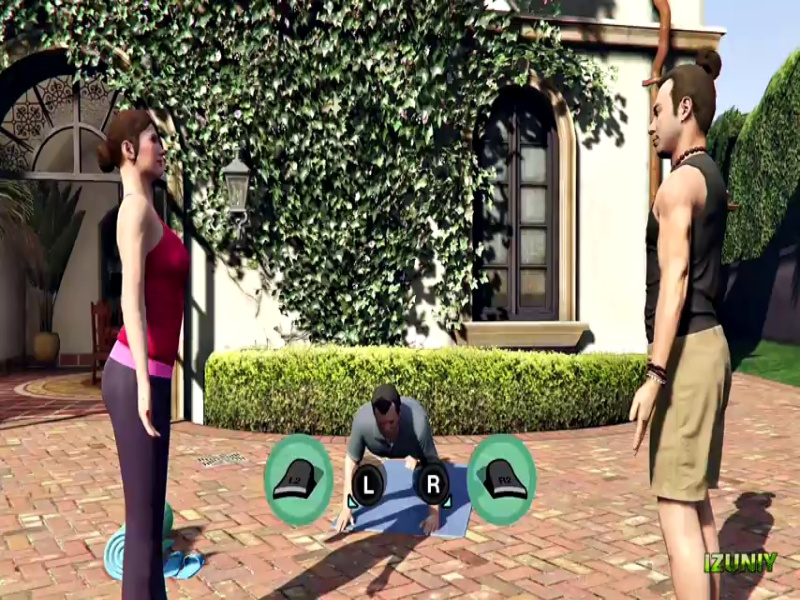licenseplate: (196, 91, 600, 114)
